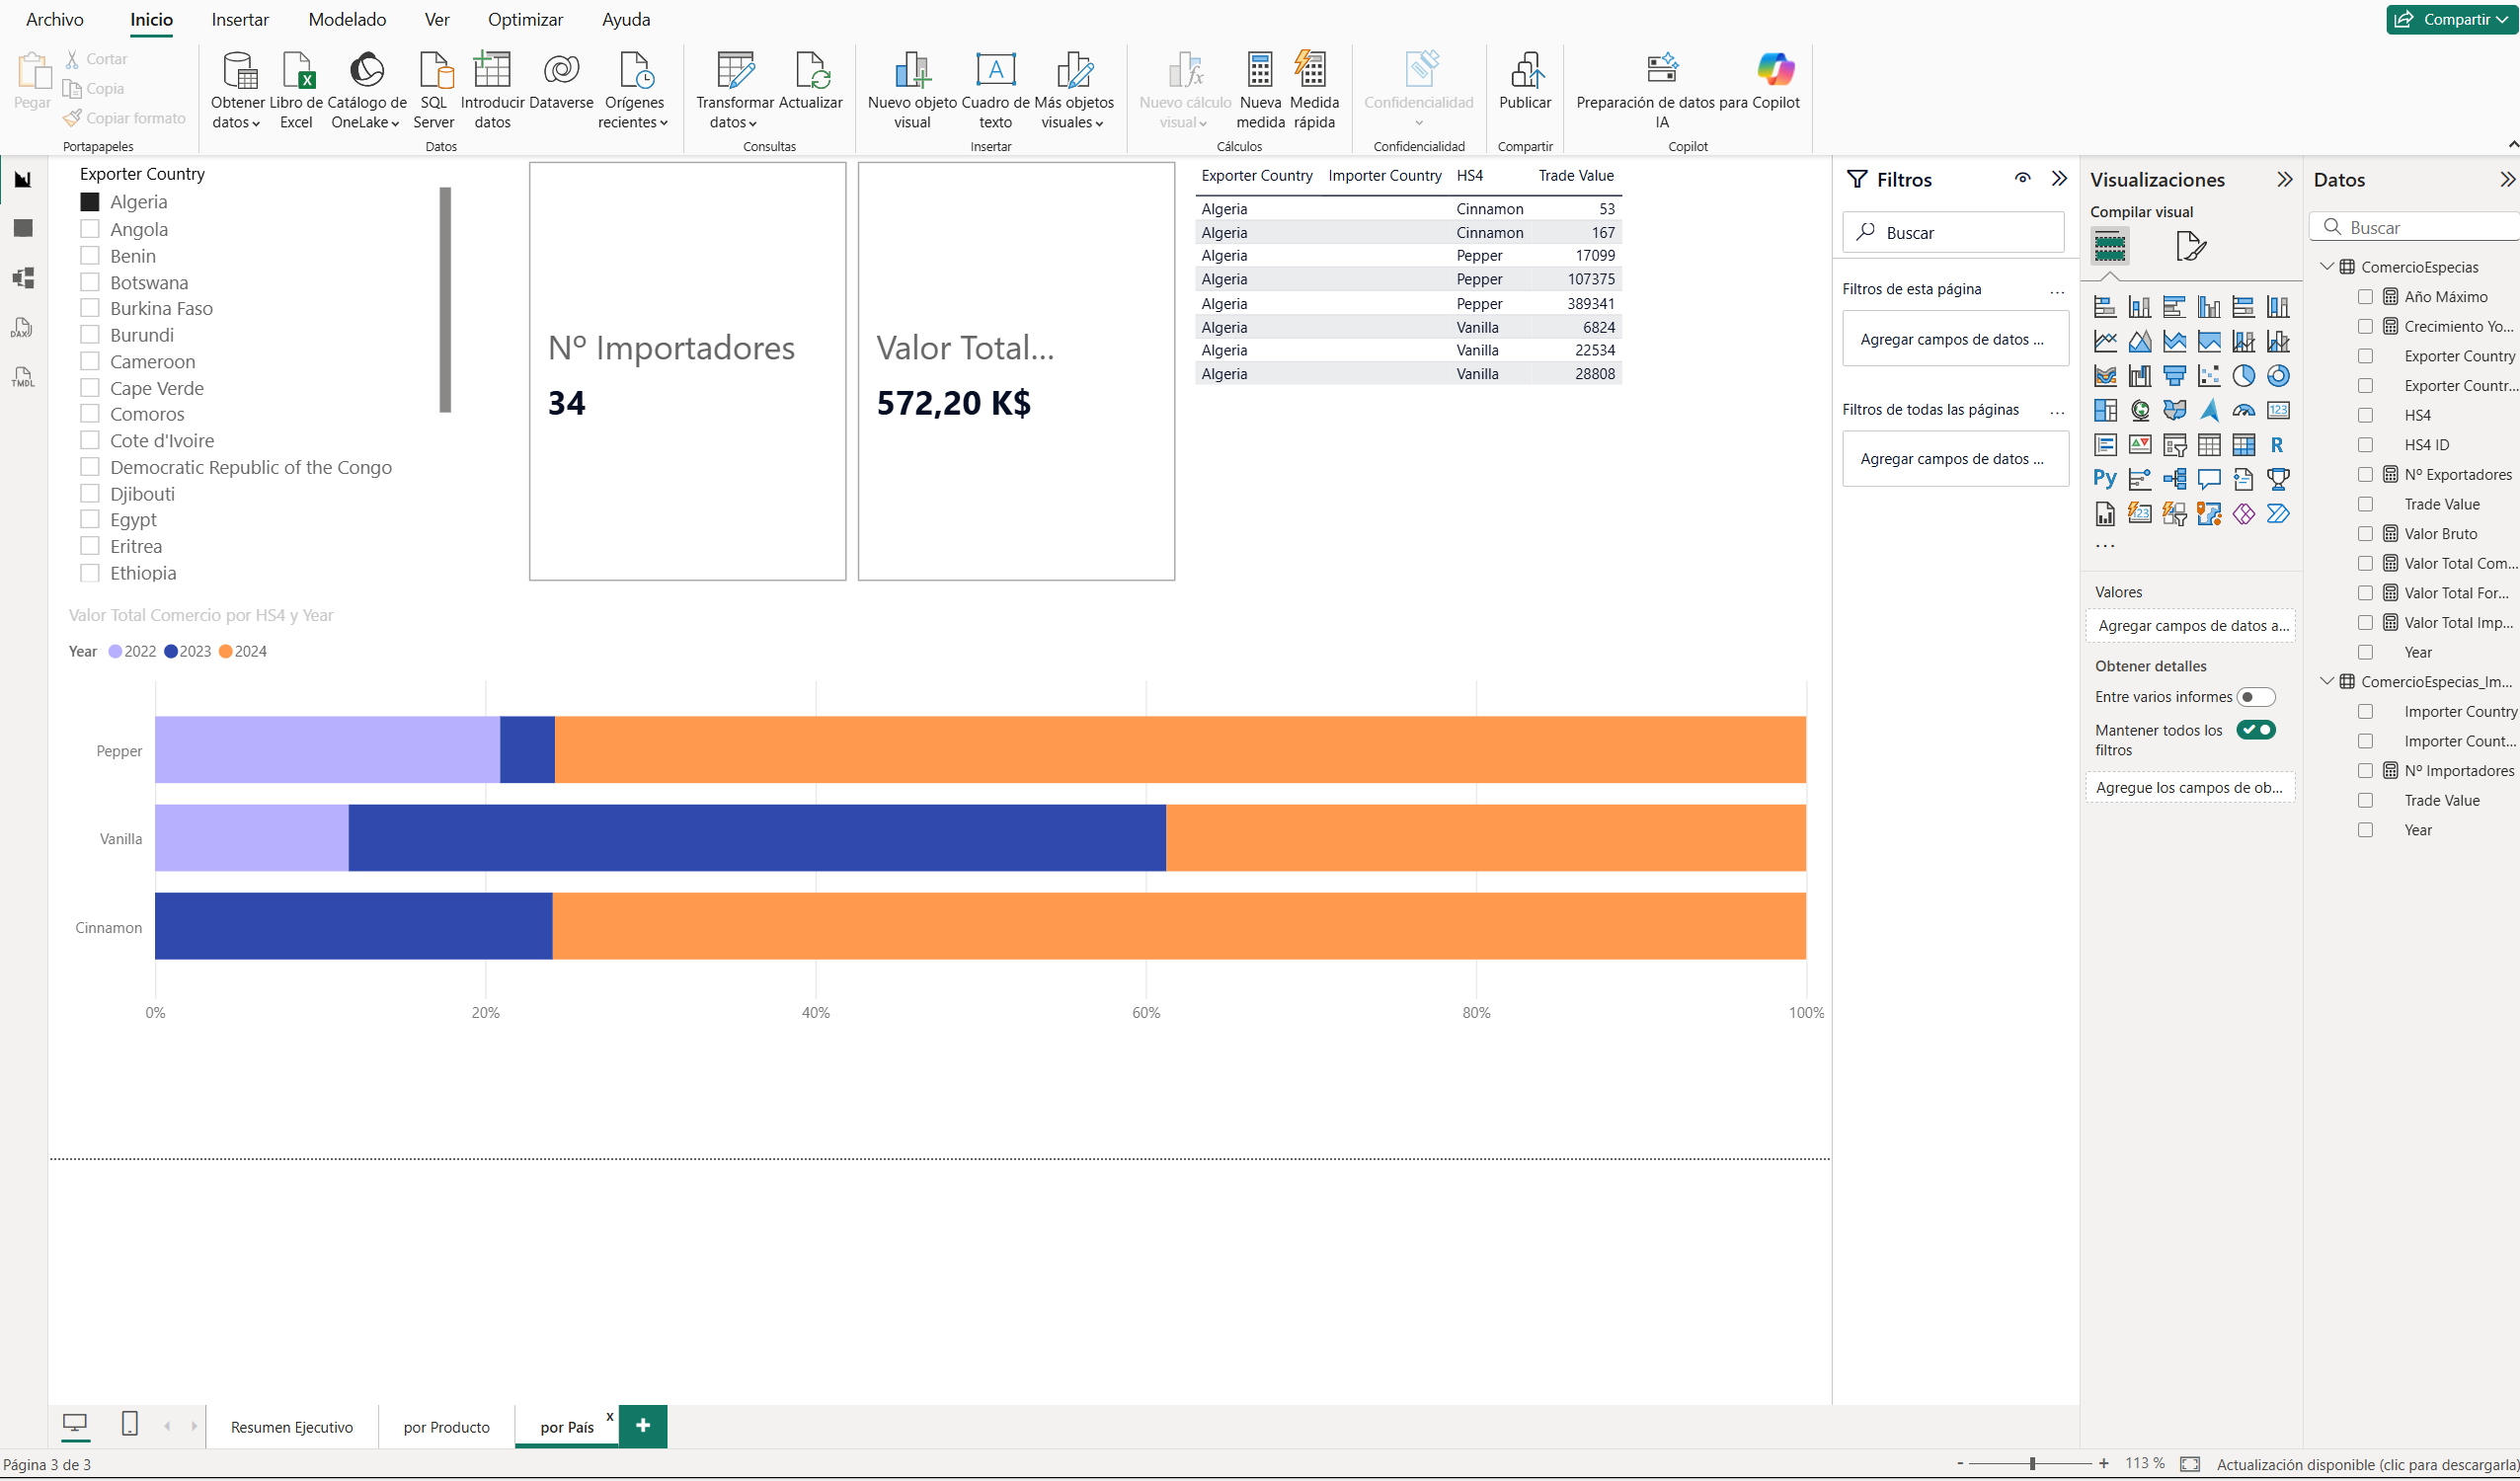

The dashboard page shown, as its layout file describes it:
{"tool":"powerbi","page":{"name":"por País","canvas":[1280,720],"ordinal":2},"visuals":[{"type":"slicer","fields":{"Values":["ComercioEspecias.Exporter Country"]},"box":[9.7,0,284.4,311.5],"z":0},{"type":"hundredPercentStackedBarChart","fields":{"Category":["ComercioEspecias.HS4"],"Y":["ComercioEspecias.Valor Total Comercio"],"Series":["ComercioEspecias.Year"]},"box":[9.7,321.2,1270.1,310.5],"z":1000},{"type":"cardVisual","fields":{"Data":["ComercioEspecias_Import (2).Nº Importadores","ComercioEspecias.Valor Total (M$)"]},"box":[340.5,0,475.9,311.5],"z":2000},{"type":"tableEx","fields":{"Values":["ComercioEspecias.Exporter Country","ComercioEspecias_Import (2).Importer Country","ComercioEspecias.HS4","ComercioEspecias.Trade Value"]},"box":[816.5,1,460.5,310.5],"z":2001}]}

Visuals, with their boxes on the page's 1280x720 design canvas (x1, y1, x2, y2). These are canvas units, not pixel positions in the 2520x1481 screenshot, which may show the page scaled, cropped or inside an application window:
slicer - ComercioEspecias.Exporter Country: [x1=10, y1=0, x2=294, y2=312]
hundredPercentStackedBarChart - ComercioEspecias.HS4 x ComercioEspecias.Valor Total Comercio: [x1=10, y1=321, x2=1280, y2=632]
cardVisual - ComercioEspecias_Import (2).Nº Importadores x ComercioEspecias.Valor Total (M$): [x1=340, y1=0, x2=816, y2=312]
tableEx - ComercioEspecias.Exporter Country x ComercioEspecias_Import (2).Importer Country: [x1=816, y1=1, x2=1277, y2=312]
